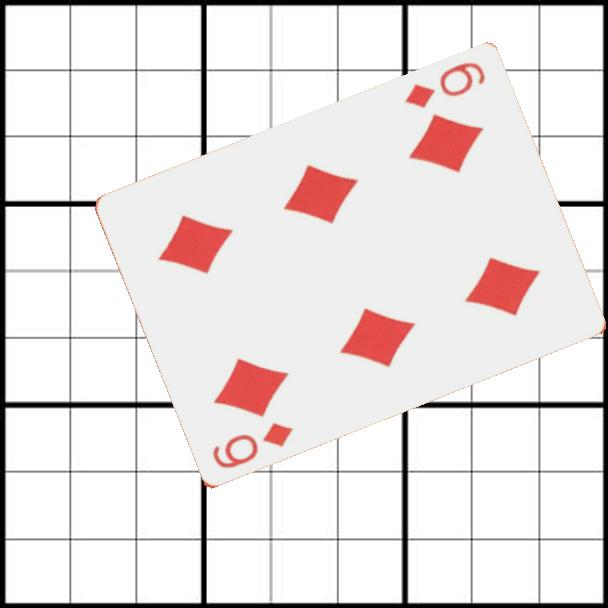d06: (208, 419, 296, 472), (400, 59, 488, 112)
